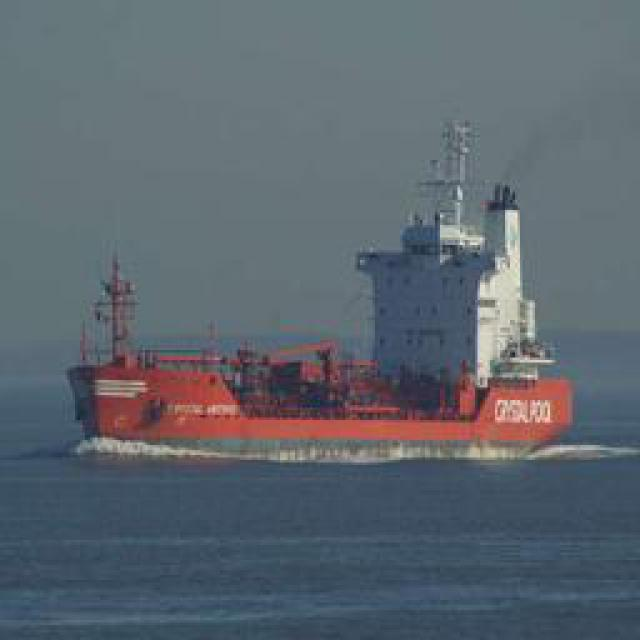Ship: (60, 116, 605, 469)
